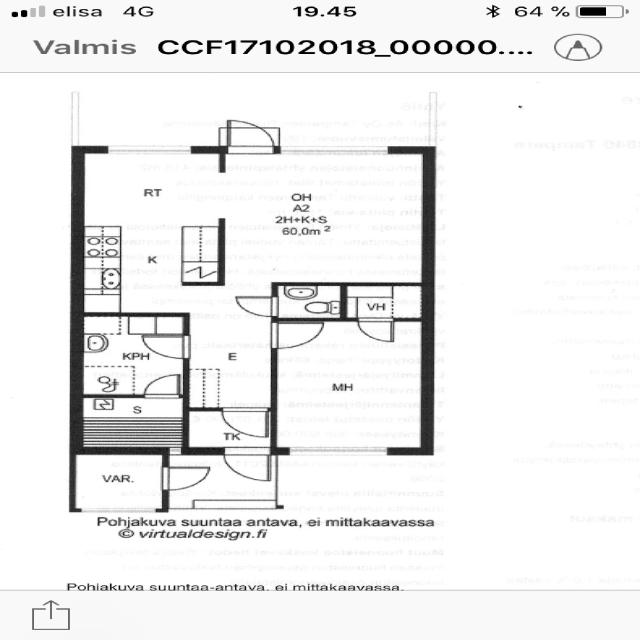door: (217, 118, 282, 159), (218, 447, 272, 484), (218, 405, 272, 439), (155, 463, 215, 493), (268, 320, 327, 350), (137, 333, 195, 362), (138, 371, 185, 399), (229, 294, 278, 320), (354, 318, 397, 344)
window: (276, 142, 398, 158), (279, 445, 396, 461), (96, 143, 200, 157), (75, 506, 160, 516)
zone: (220, 147, 426, 286), (77, 147, 222, 309), (274, 318, 425, 451), (78, 314, 185, 396), (74, 396, 188, 452), (69, 452, 165, 511), (341, 284, 431, 319), (271, 284, 347, 320)
